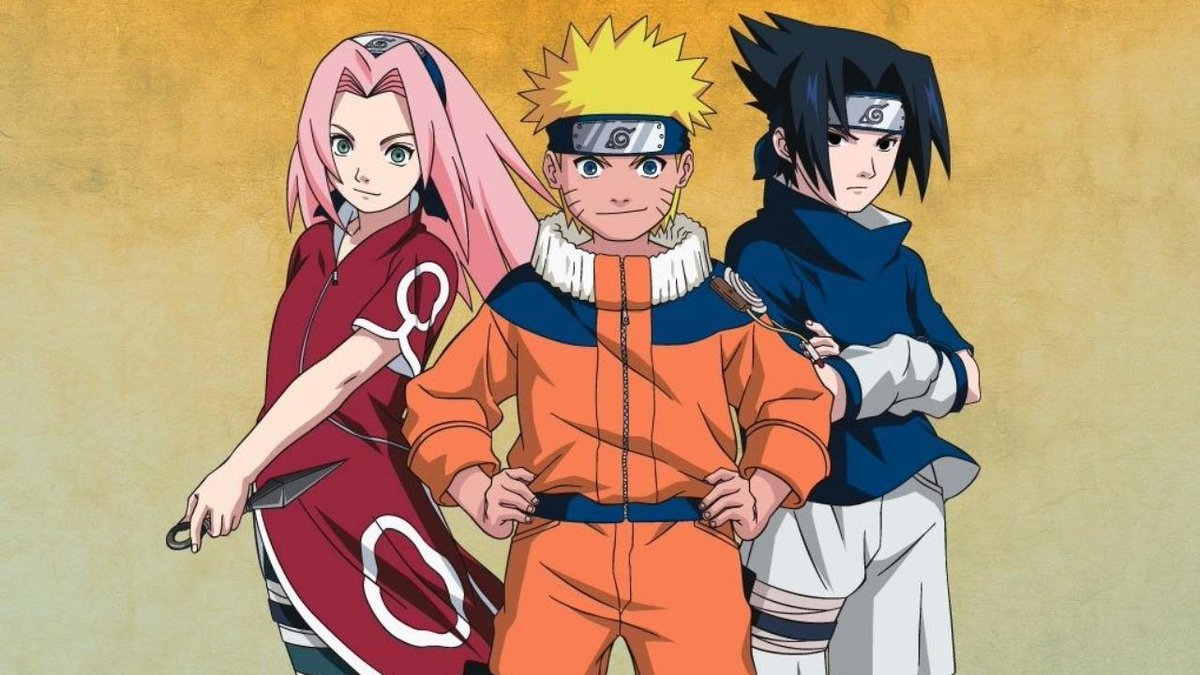naruto: (540, 111, 697, 248)
sakura: (298, 31, 464, 223)
sasuke: (767, 81, 918, 221)
